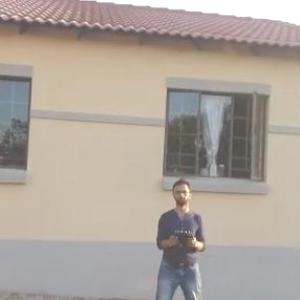follow: (144, 171, 211, 299)
